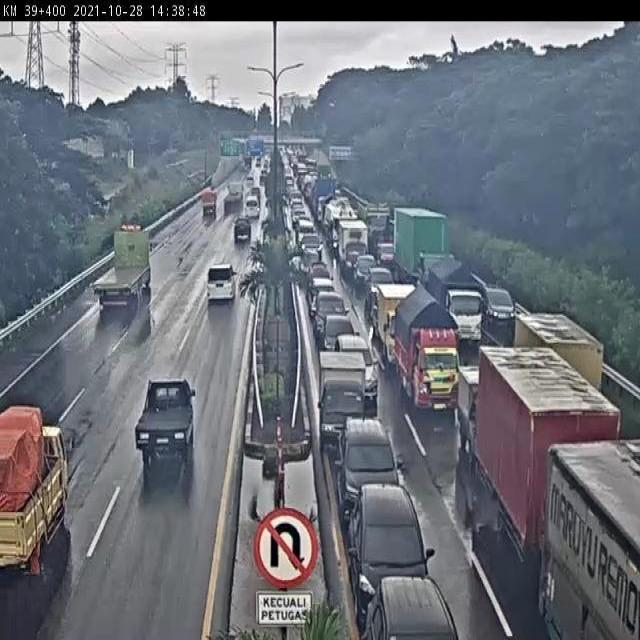big truck: (479, 345, 626, 595), (391, 205, 451, 298), (92, 224, 154, 312), (223, 181, 244, 215)
car: (349, 486, 436, 618), (335, 418, 399, 530), (363, 577, 460, 640), (335, 336, 380, 403), (319, 315, 360, 369), (312, 290, 350, 342), (478, 283, 517, 332), (205, 263, 237, 304), (367, 265, 395, 308), (309, 276, 334, 316), (355, 255, 376, 288), (233, 217, 252, 240)
small bus: (243, 196, 261, 217)
small truck: (511, 311, 603, 449), (0, 405, 68, 583), (393, 287, 462, 416), (458, 365, 521, 468), (133, 377, 197, 464), (317, 348, 369, 449), (428, 256, 486, 343), (377, 283, 420, 369), (339, 220, 369, 276), (199, 189, 218, 219)
